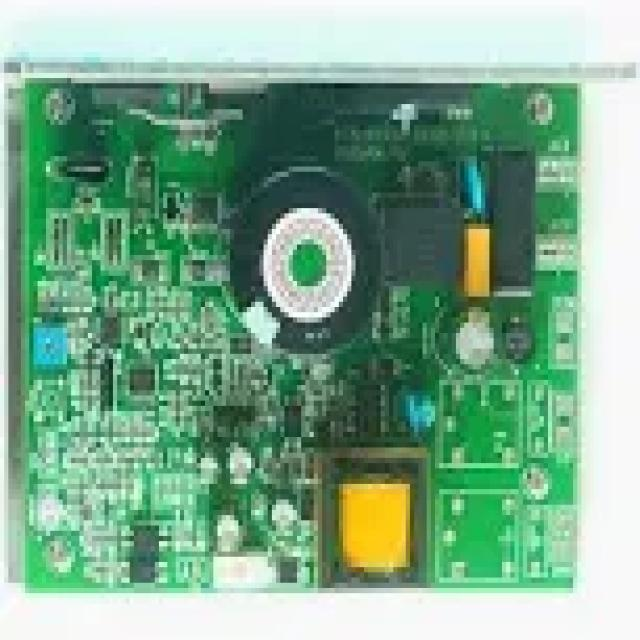pcb: (0, 57, 607, 593), (309, 442, 431, 588)
